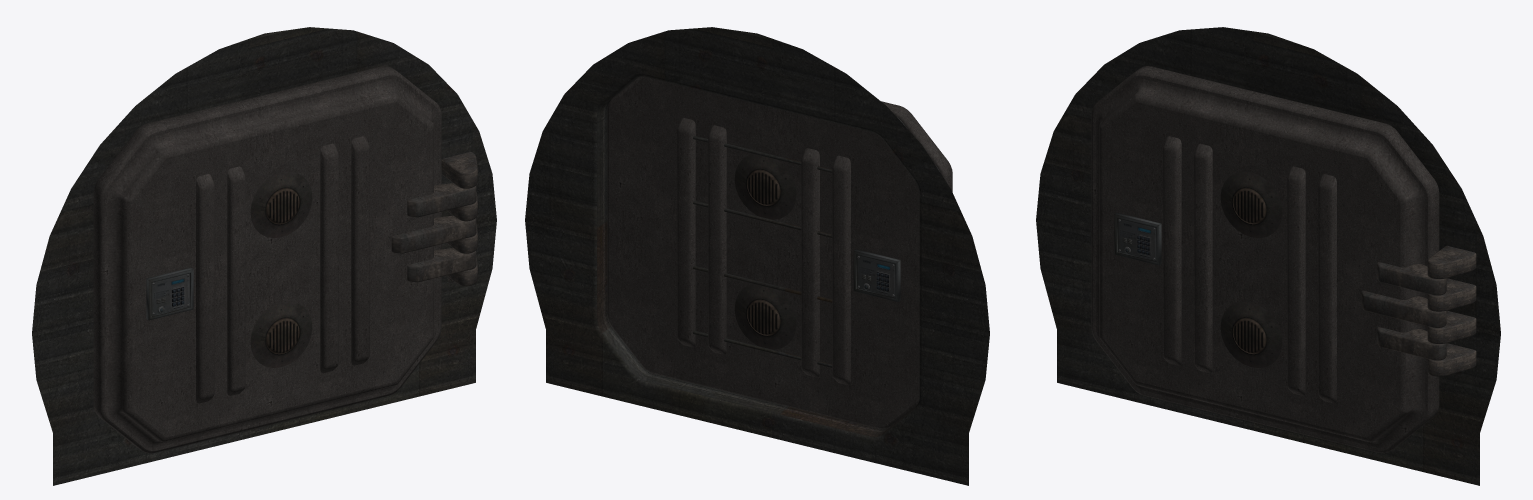
Rendered from blast_door_1_frame.fbx.
The picture shows the model from 3 angles, left to right: view 1: azimuth 30°, elevation 25°; view 2: azimuth 150°, elevation 25°; view 3: azimuth 330°, elevation 25°; orthographic projection.
Visible parts, largest first — view 1: blast_door_1, blast_door_1_frame; view 2: blast_door_1, blast_door_1_frame; view 3: blast_door_1, blast_door_1_frame.
Part boxes in pixels (left/top/right/bottom): blast_door_1: left=93, top=66, right=476, bottom=453; blast_door_1_frame: left=32, top=27, right=496, bottom=485; blast_door_1: left=607, top=76, right=952, bottom=428; blast_door_1_frame: left=525, top=27, right=989, bottom=485; blast_door_1: left=1091, top=66, right=1446, bottom=453; blast_door_1_frame: left=1036, top=27, right=1500, bottom=485.
Size of the model in its own units: 3 by 0.44 by 2.47.
